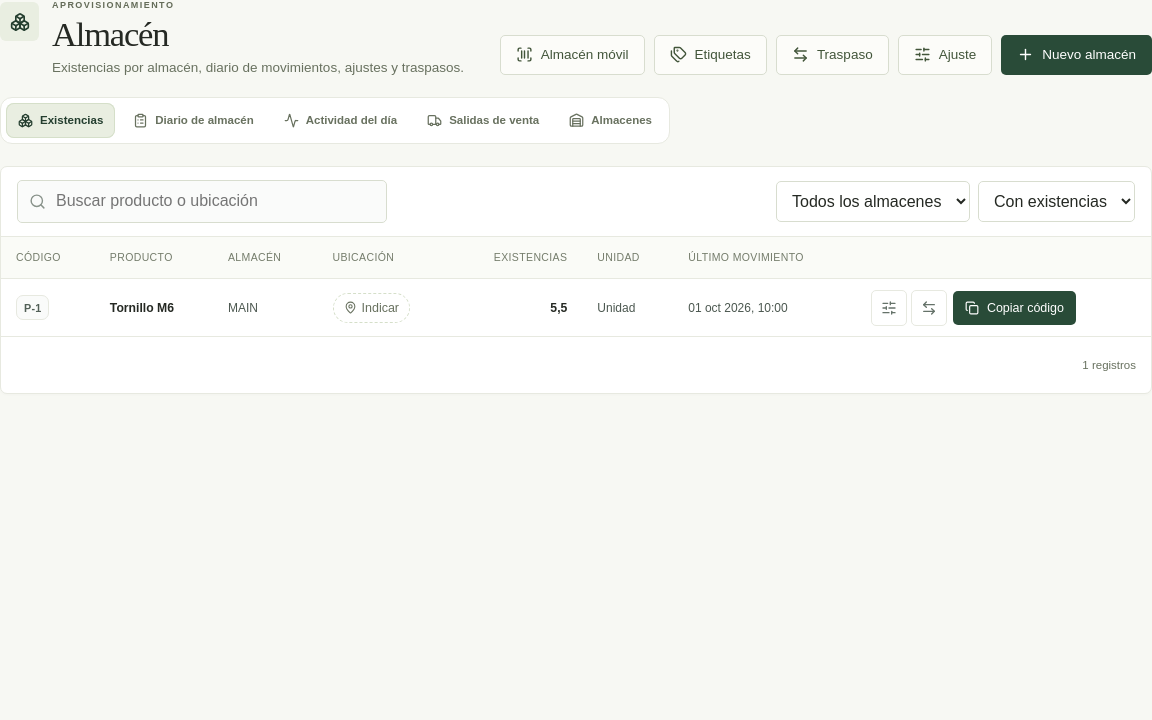
it: records an adjustment from a stock row with the product snapshot and a mandatory reason
Click the button named "Ajustar existencias de P-1" at (889,308), box [871,290,907,326]
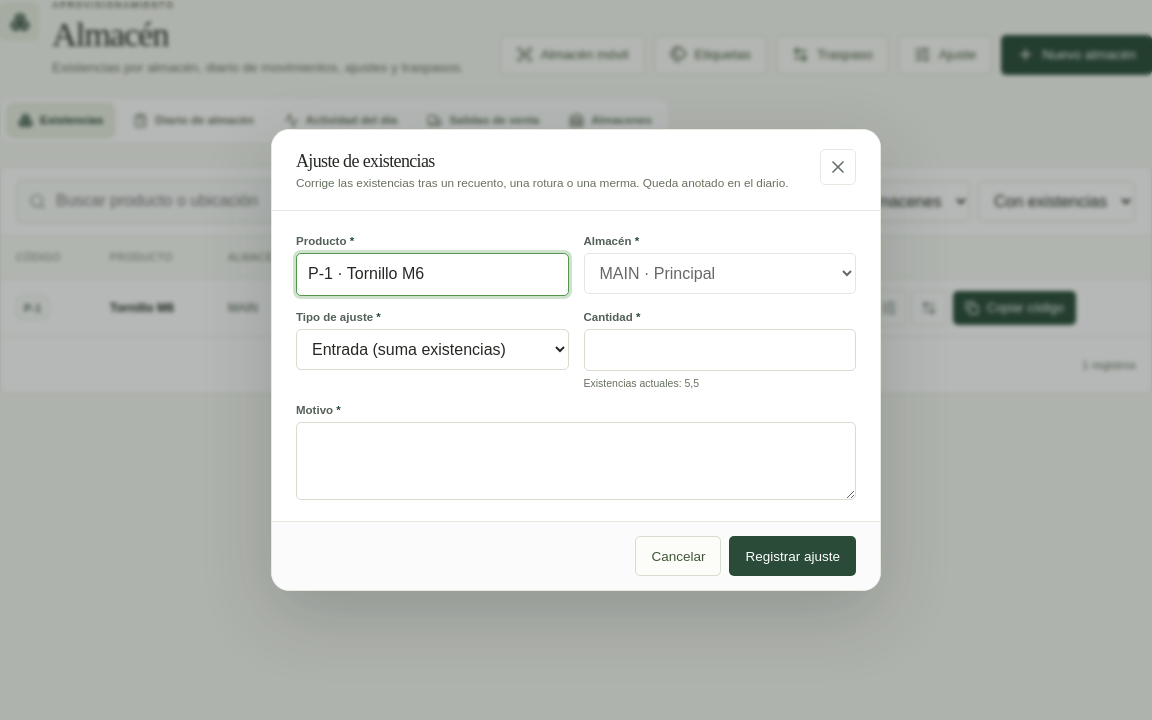
Result: the field labelled "Producto *" holds "P-1 · Tornillo M6" at [296,253,568,296]
Select "Salida (resta existencias)" in the dropdown labelled "Tipo de ajuste *" at (432,349), box [296,328,568,370]
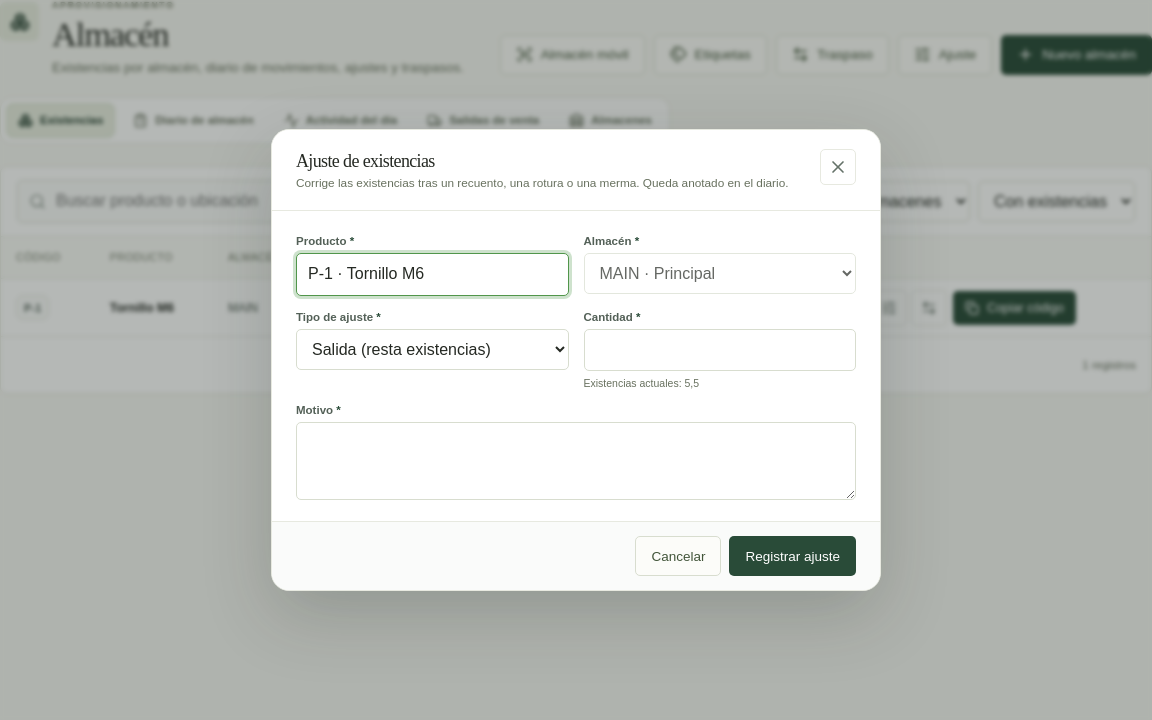
Type "1.5" into the number field labelled "Cantidad *" at (720,350), box [584,328,856,371]
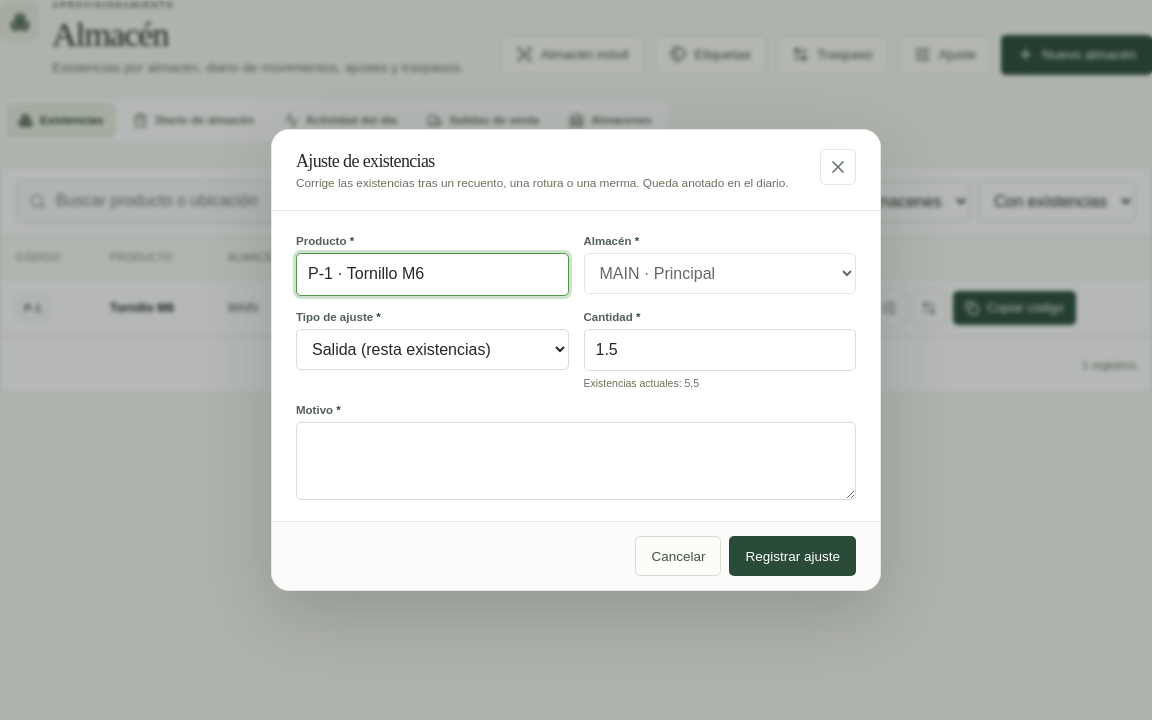
Type " Rotura " into the text box labelled "Motivo *" at (576,461), box [296,422,856,500]
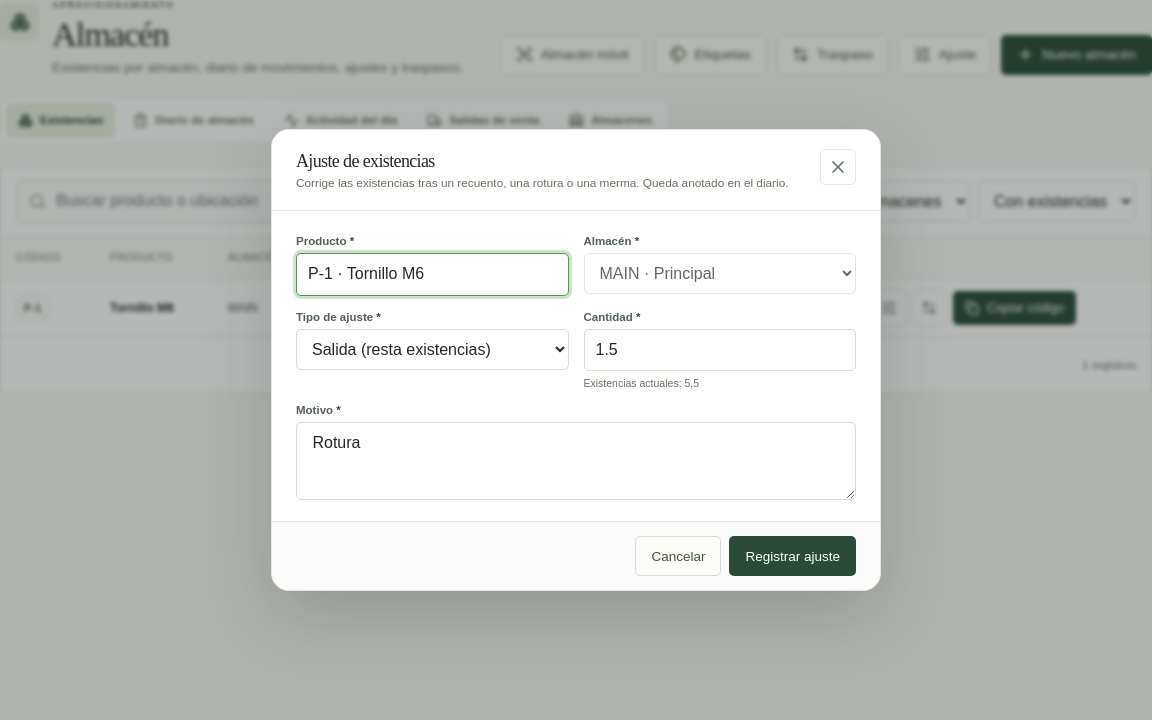
Click the button "Registrar ajuste" at (793,556), box [730,536,856,576]
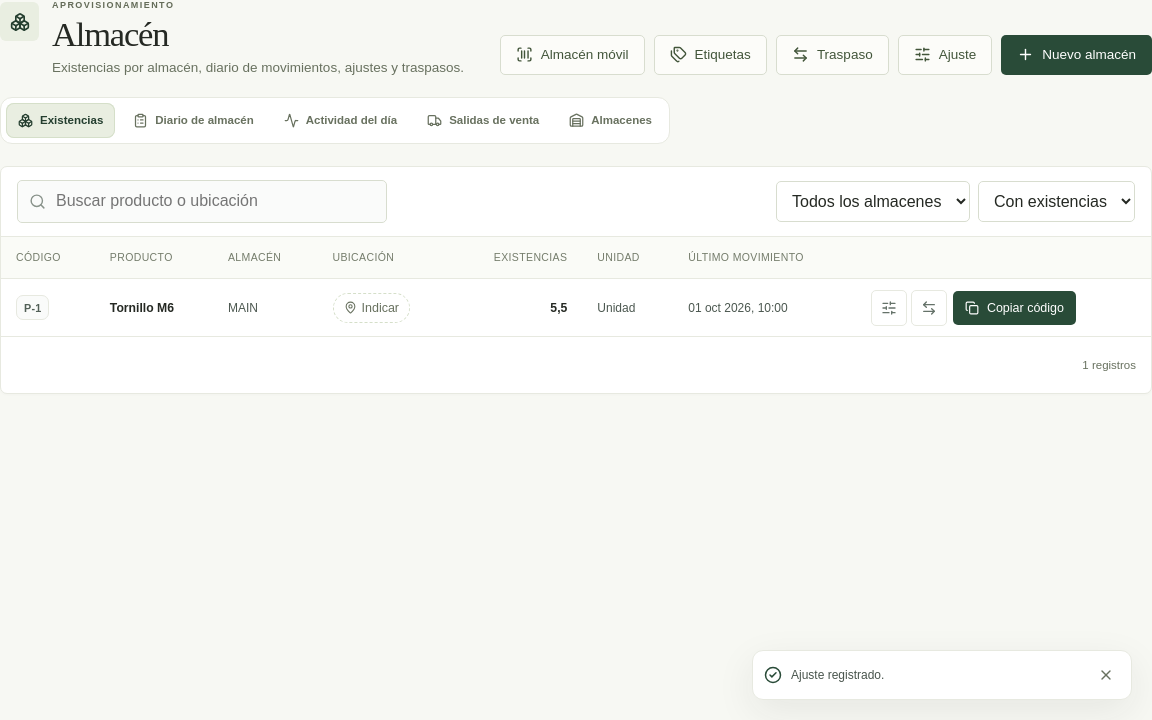
Result: the text "Ajuste registrado." is shown at [791,668,884,682]
